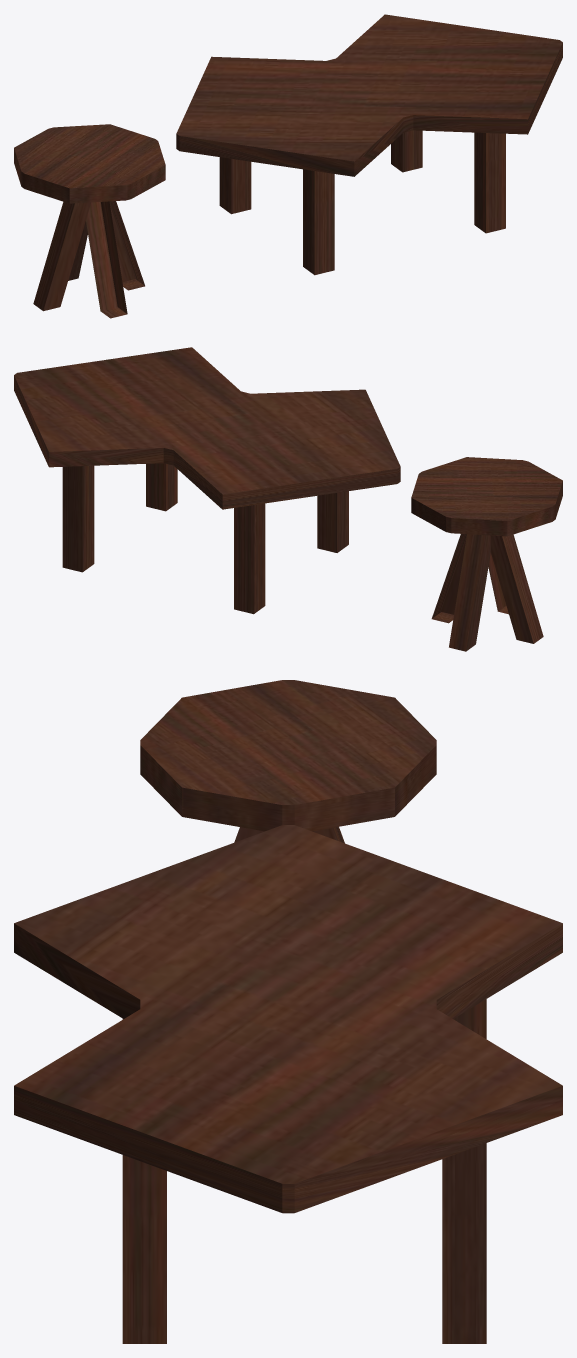
The model's file is table.glb.
3 renders of one model, top to bottom at view 1: azimuth 30°, elevation 25°; view 2: azimuth 150°, elevation 25°; view 3: azimuth 270°, elevation 25°, orthographic. The views are drawn at different scales.
Visible parts, largest first — view 1: table.001, table, Cube.008; view 2: table.001, table, Cube.008; view 3: table.001, table, Cube.008.
Part boxes in pixels (bbox=[...]): table.001: bbox=[176, 14, 562, 176]; table: bbox=[14, 124, 165, 318]; Cube.008: bbox=[219, 130, 505, 275]; table.001: bbox=[14, 347, 400, 509]; table: bbox=[411, 457, 562, 651]; Cube.008: bbox=[62, 463, 348, 614]; table.001: bbox=[14, 825, 562, 1213]; table: bbox=[140, 680, 436, 843]; Cube.008: bbox=[122, 999, 486, 1343].
Bounding box in the file's own units: 8.05 × 1.98 × 3.71.
1 material, 1 textured.
